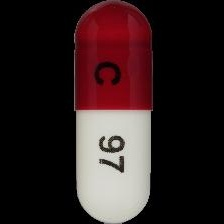65862-085: (0, 0, 224, 224)
